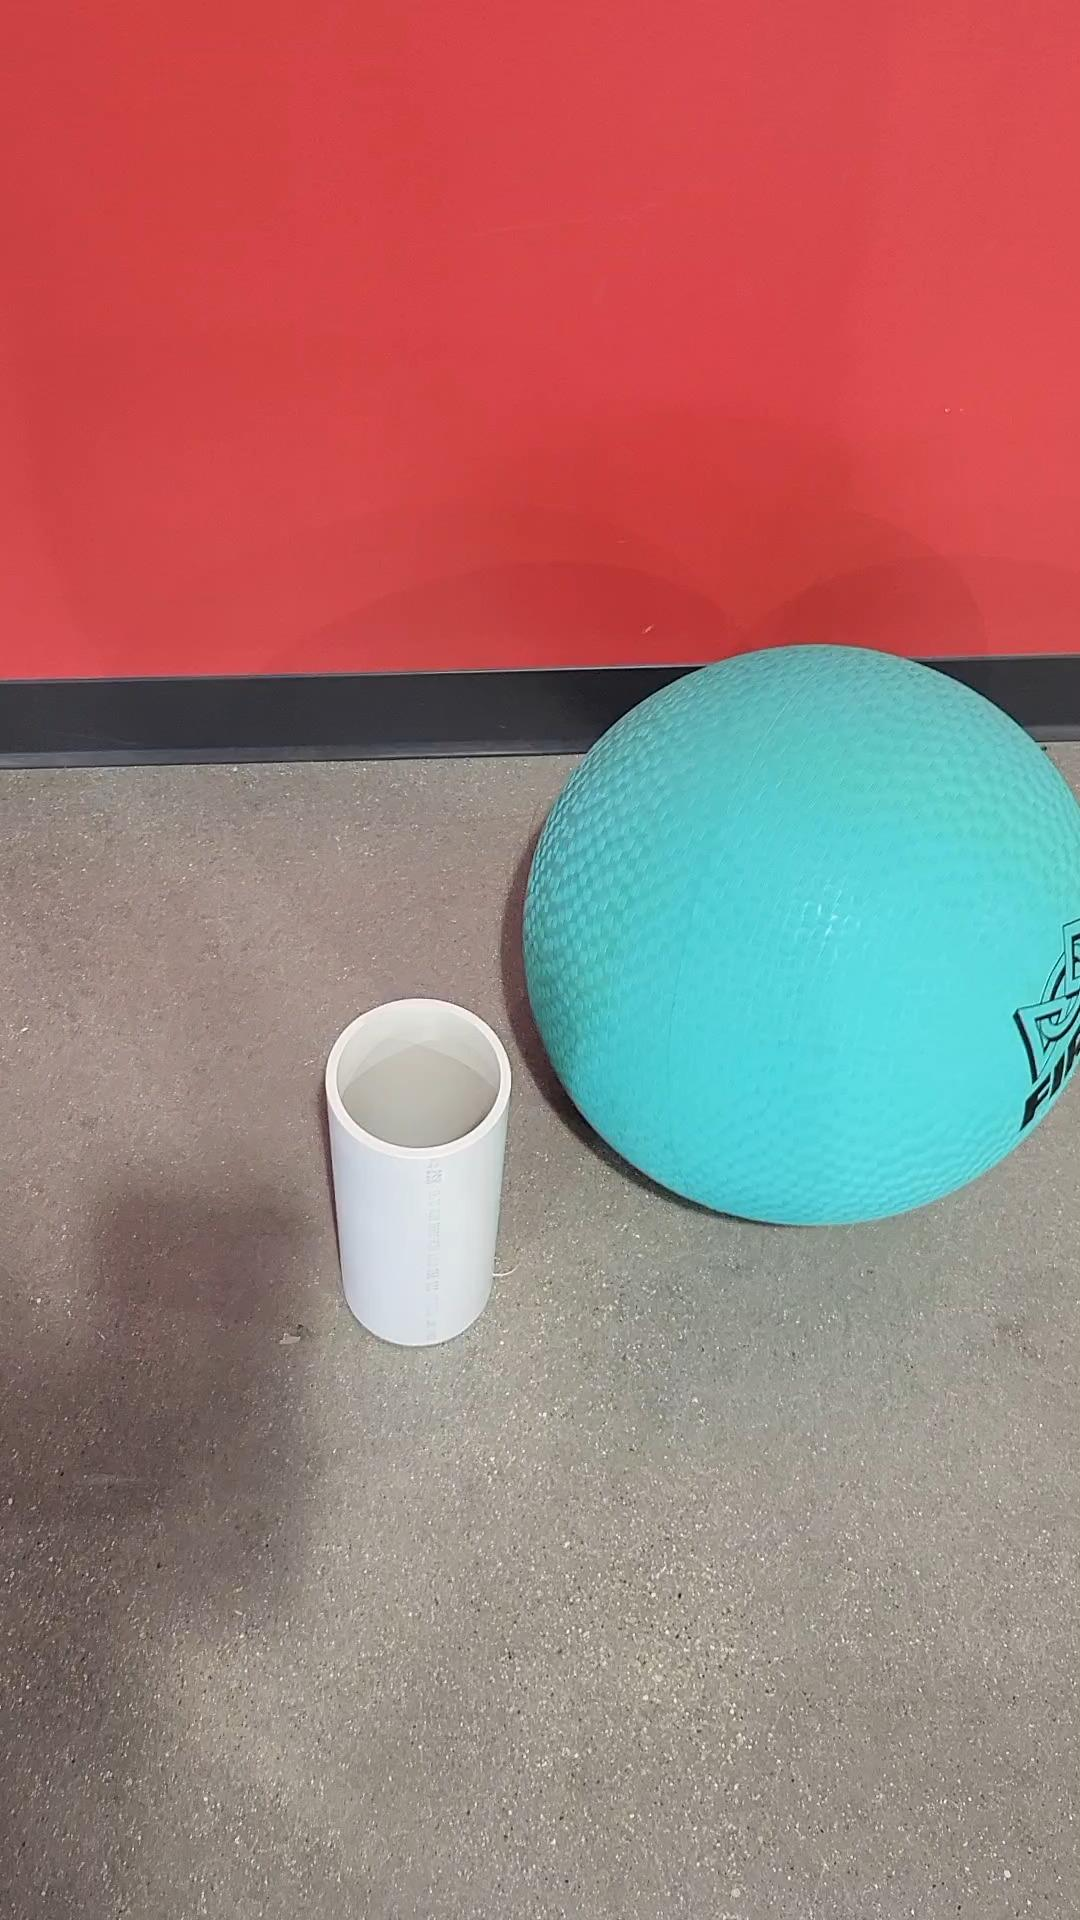algae: (516, 640, 1079, 1230)
coral: (320, 994, 517, 1348)
